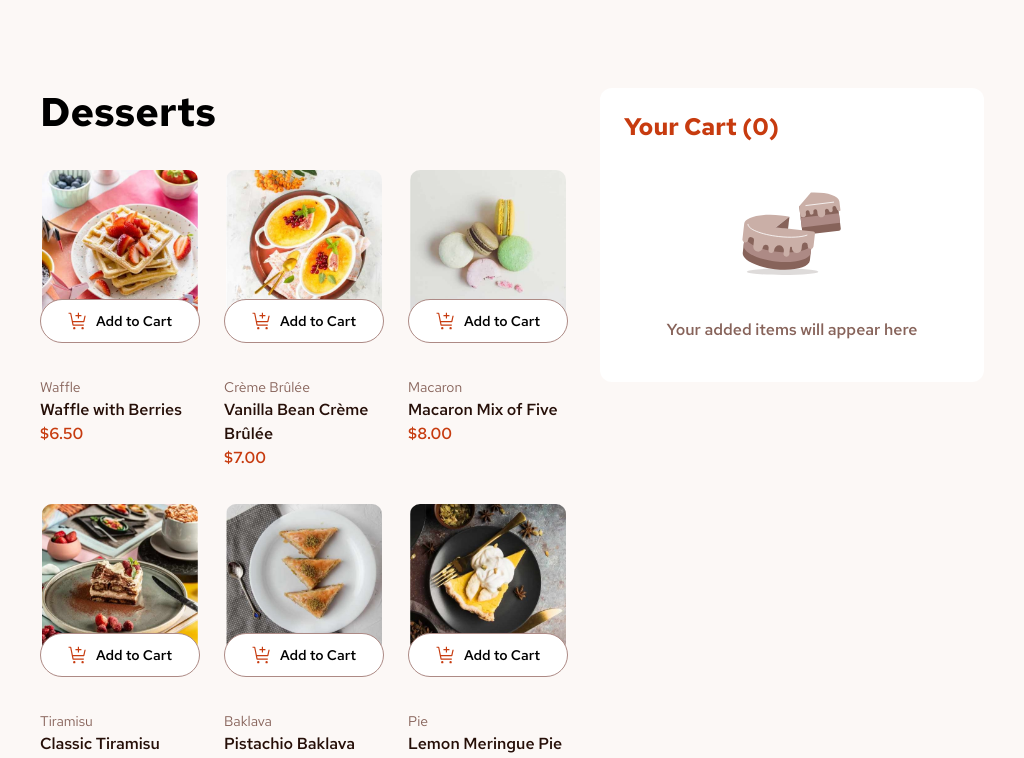
Test case: Dessert Store flows › increments and decrements quantity from the product stepper
Click the 1st button "Add to Cart".
click(120, 321)  # box [40,299,200,343]
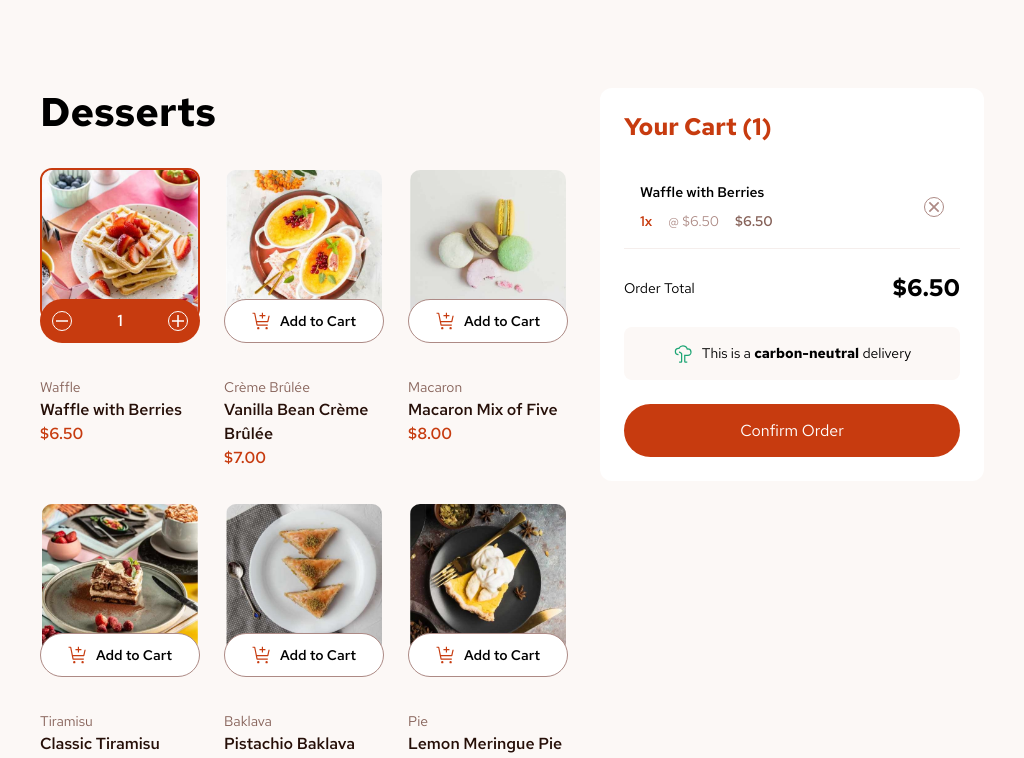
Expected: the heading "Your Cart (1)" is shown, [624,111,772,142]
Click the button named "increase quantity".
click(178, 321)  # box [168,311,188,331]
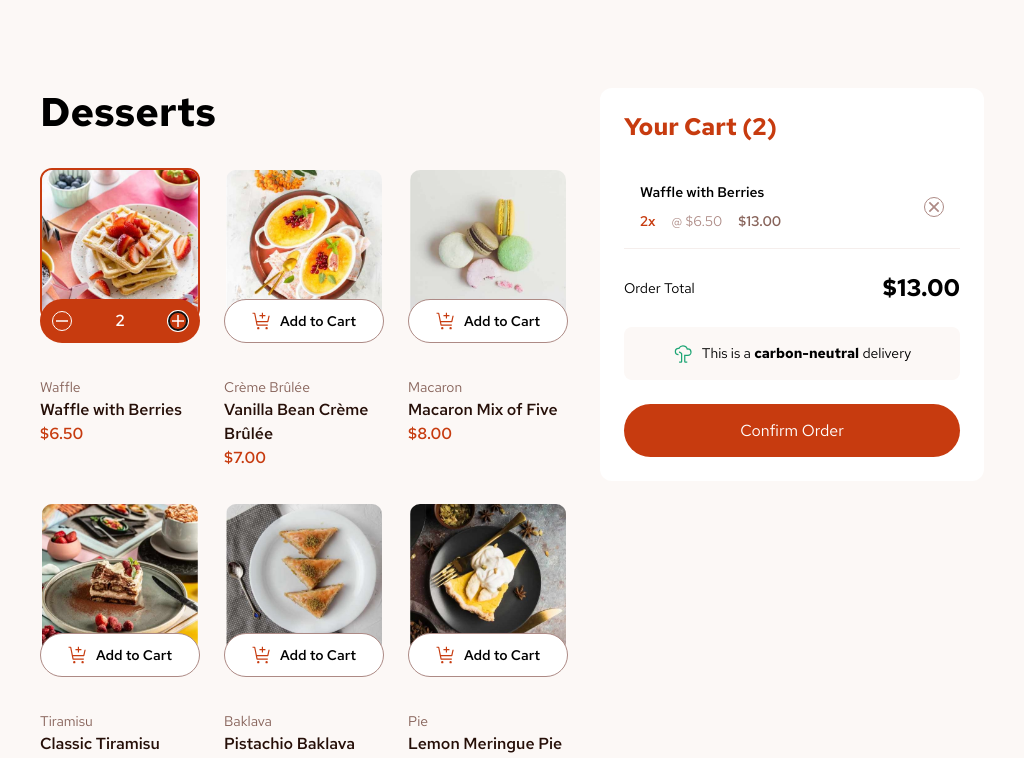
Expected: the text "Order Total $13.00" is shown, [624,273,960,303]
Expected: the heading "Your Cart (2)" is shown, [624,111,777,142]
Expected: the text "$13.00" in the row of "Order Total" is shown, [883,273,960,303]
Click the button named "decrease quantity".
click(62, 321)  # box [52,311,72,331]
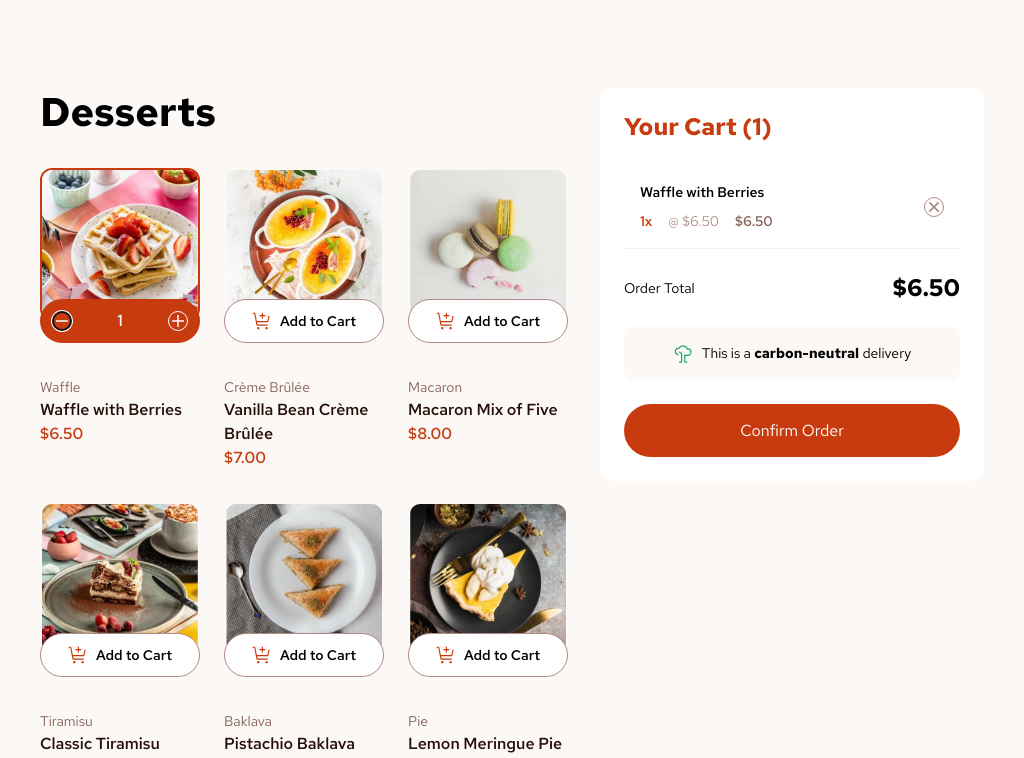
Expected: the heading "Your Cart (1)" is shown, [624,111,772,142]
